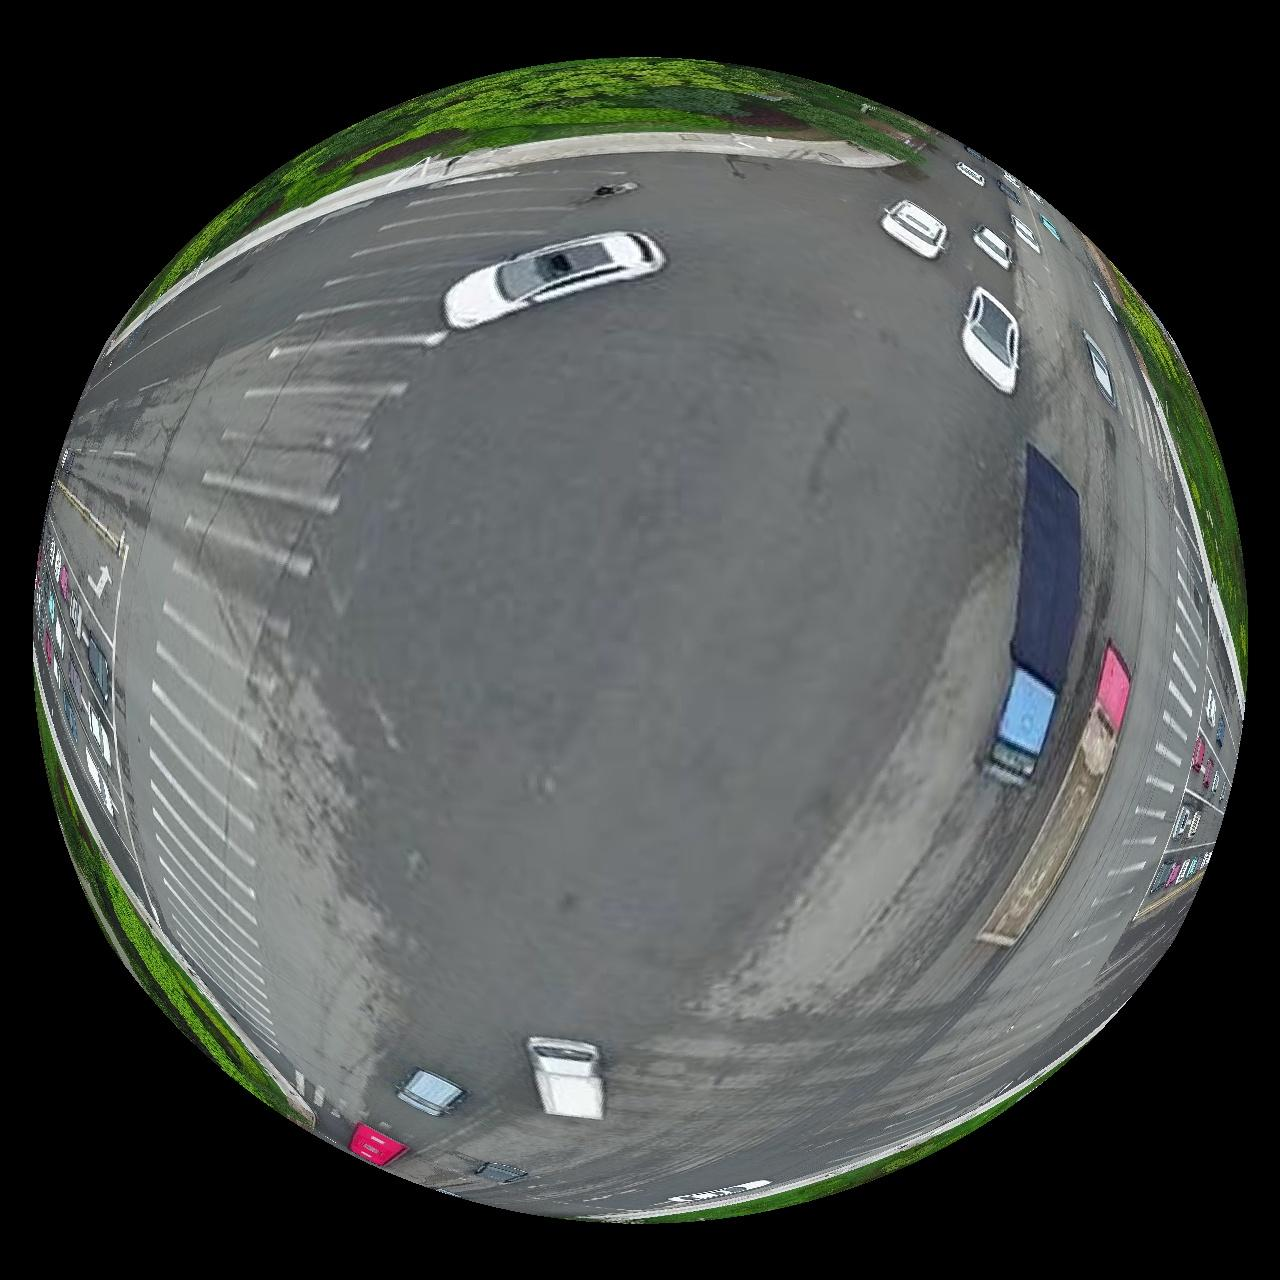cars: (979, 645, 1133, 947), (986, 445, 1084, 785), (443, 230, 667, 328), (527, 1039, 605, 1122), (964, 286, 1020, 393), (883, 199, 948, 258), (397, 1070, 467, 1118), (661, 1184, 772, 1207), (1085, 331, 1119, 404), (348, 1126, 407, 1169), (975, 224, 1015, 268), (1012, 213, 1043, 252), (474, 1164, 527, 1185), (956, 159, 987, 184)
trees: (155, 56, 937, 287), (35, 701, 316, 1131), (1092, 244, 1251, 688), (634, 1126, 980, 1226)
